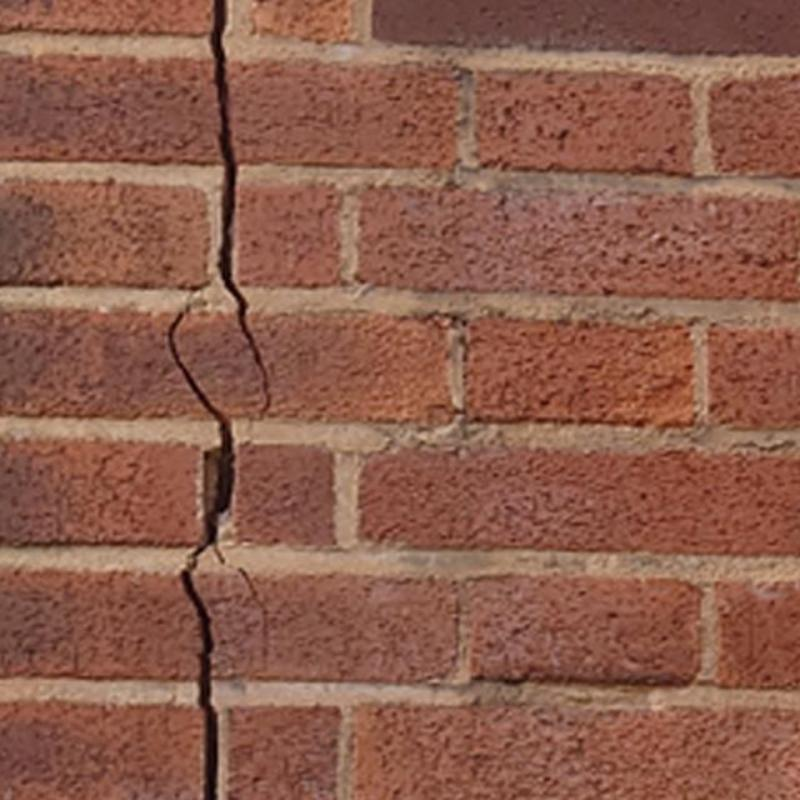pothole: (167, 298, 234, 799), (209, 0, 272, 416), (238, 568, 269, 681)
